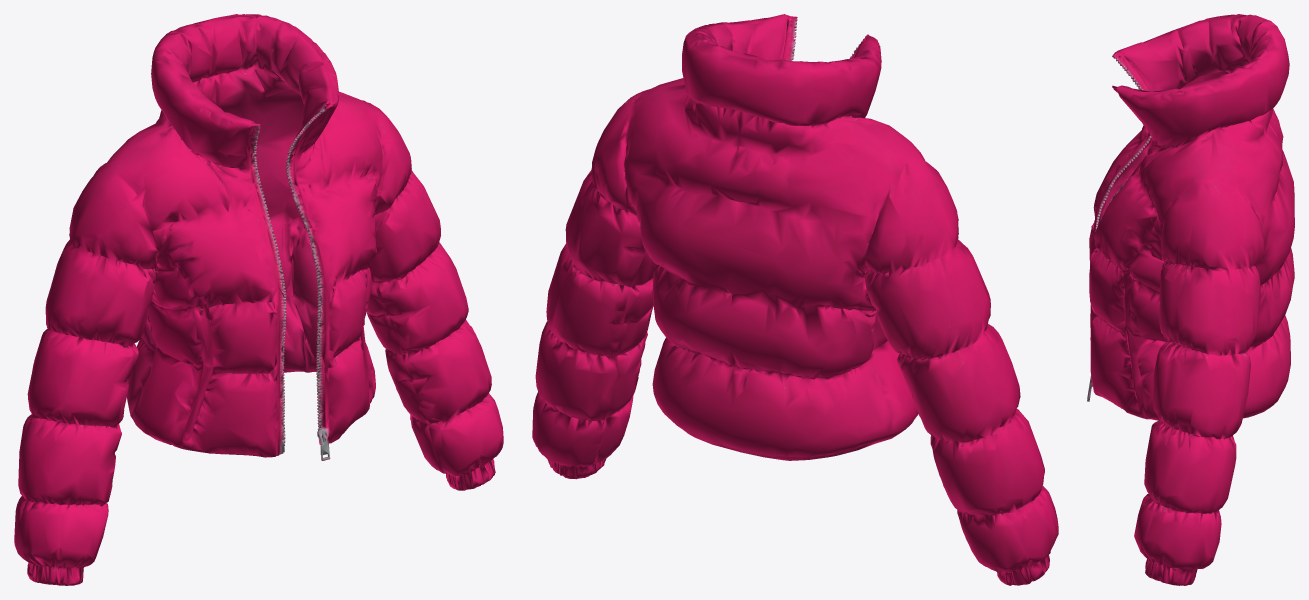
File: pink.glb
3 views of the same model, side by side, from view 1: azimuth 30°, elevation 25°; view 2: azimuth 150°, elevation 25°; view 3: azimuth 270°, elevation 25° (orthographic). The views are drawn at different scales.
Visible parts, largest first — view 1: mesh_node; view 2: mesh_node; view 3: mesh_node.
Part boxes in pixels (<box>): mesh_node: <box>14,14,503,585</box>; mesh_node: <box>532,14,1058,585</box>; mesh_node: <box>1087,14,1294,585</box>.
Size of the model in its own units: 1.9 by 1.82 by 0.7605.
Materials: 1 (1 with a texture image).
